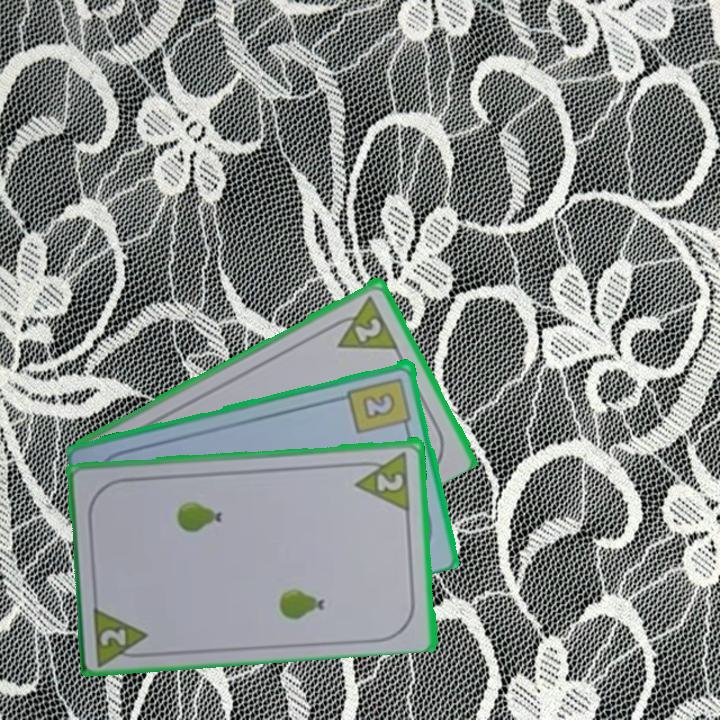2b: (345, 373, 415, 436)
2p: (324, 291, 401, 353), (90, 601, 154, 666), (373, 470, 407, 494)
